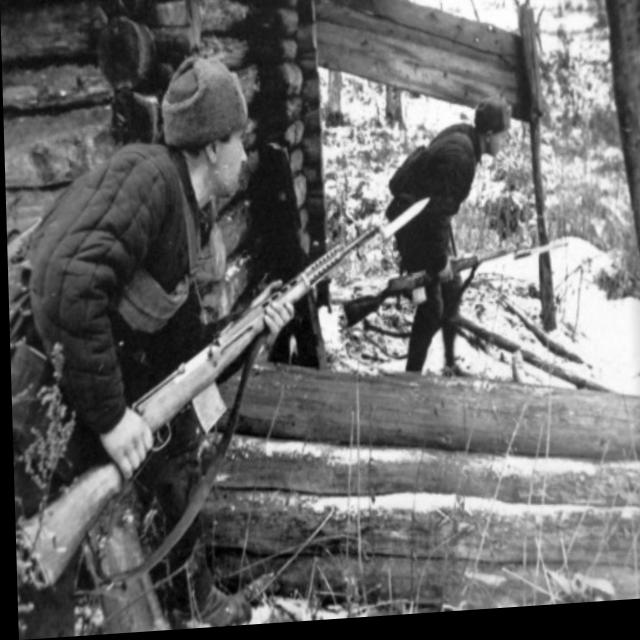other: (2, 58, 257, 627), (399, 104, 513, 349)
